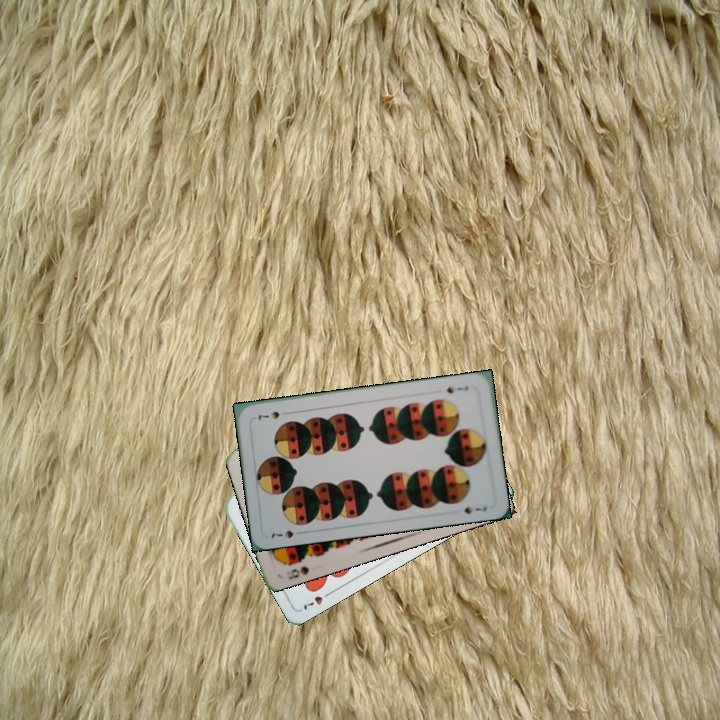H7: (299, 587, 335, 613)
S7: (266, 526, 296, 542), (443, 382, 471, 396)
S8: (284, 562, 311, 582)
